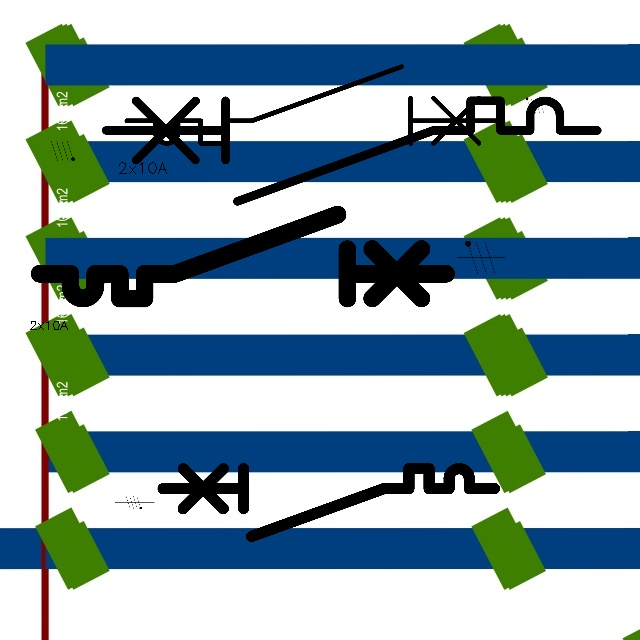interruptor_termomagnetico: (93, 88, 609, 214), (29, 204, 457, 309), (117, 57, 512, 153), (154, 460, 503, 545)
